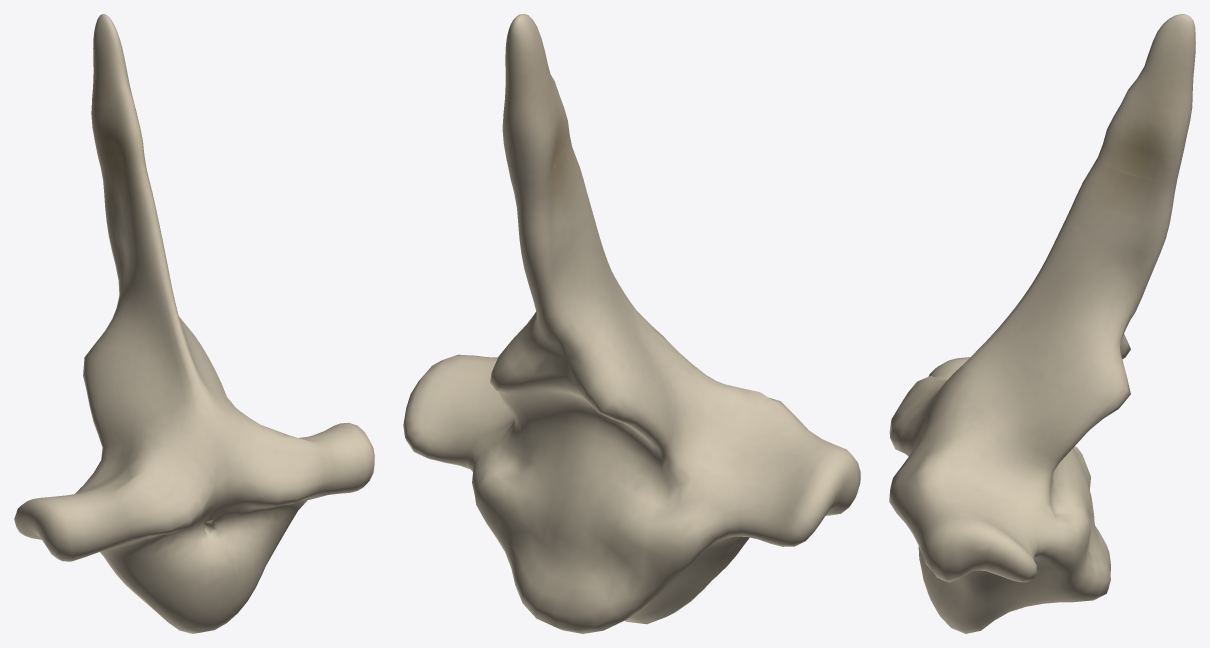
The model's file is vertebrae thoracicae 02.fbx.
The picture shows the model from 3 angles, left to right: view 1: azimuth 30°, elevation 25°; view 2: azimuth 150°, elevation 25°; view 3: azimuth 270°, elevation 25°; orthographic projection. The views are drawn at different scales.
Parts seen in each view (by area): view 1: vertebrae thoracicae 02; view 2: vertebrae thoracicae 02; view 3: vertebrae thoracicae 02.
Boxes of the visible parts, box(x1,y1,x2,y2) form: vertebrae thoracicae 02: box(14, 14, 374, 633); vertebrae thoracicae 02: box(403, 14, 860, 633); vertebrae thoracicae 02: box(889, 14, 1195, 633).
Bounding box in the file's own units: 10.89 × 17.25 × 7.81.
